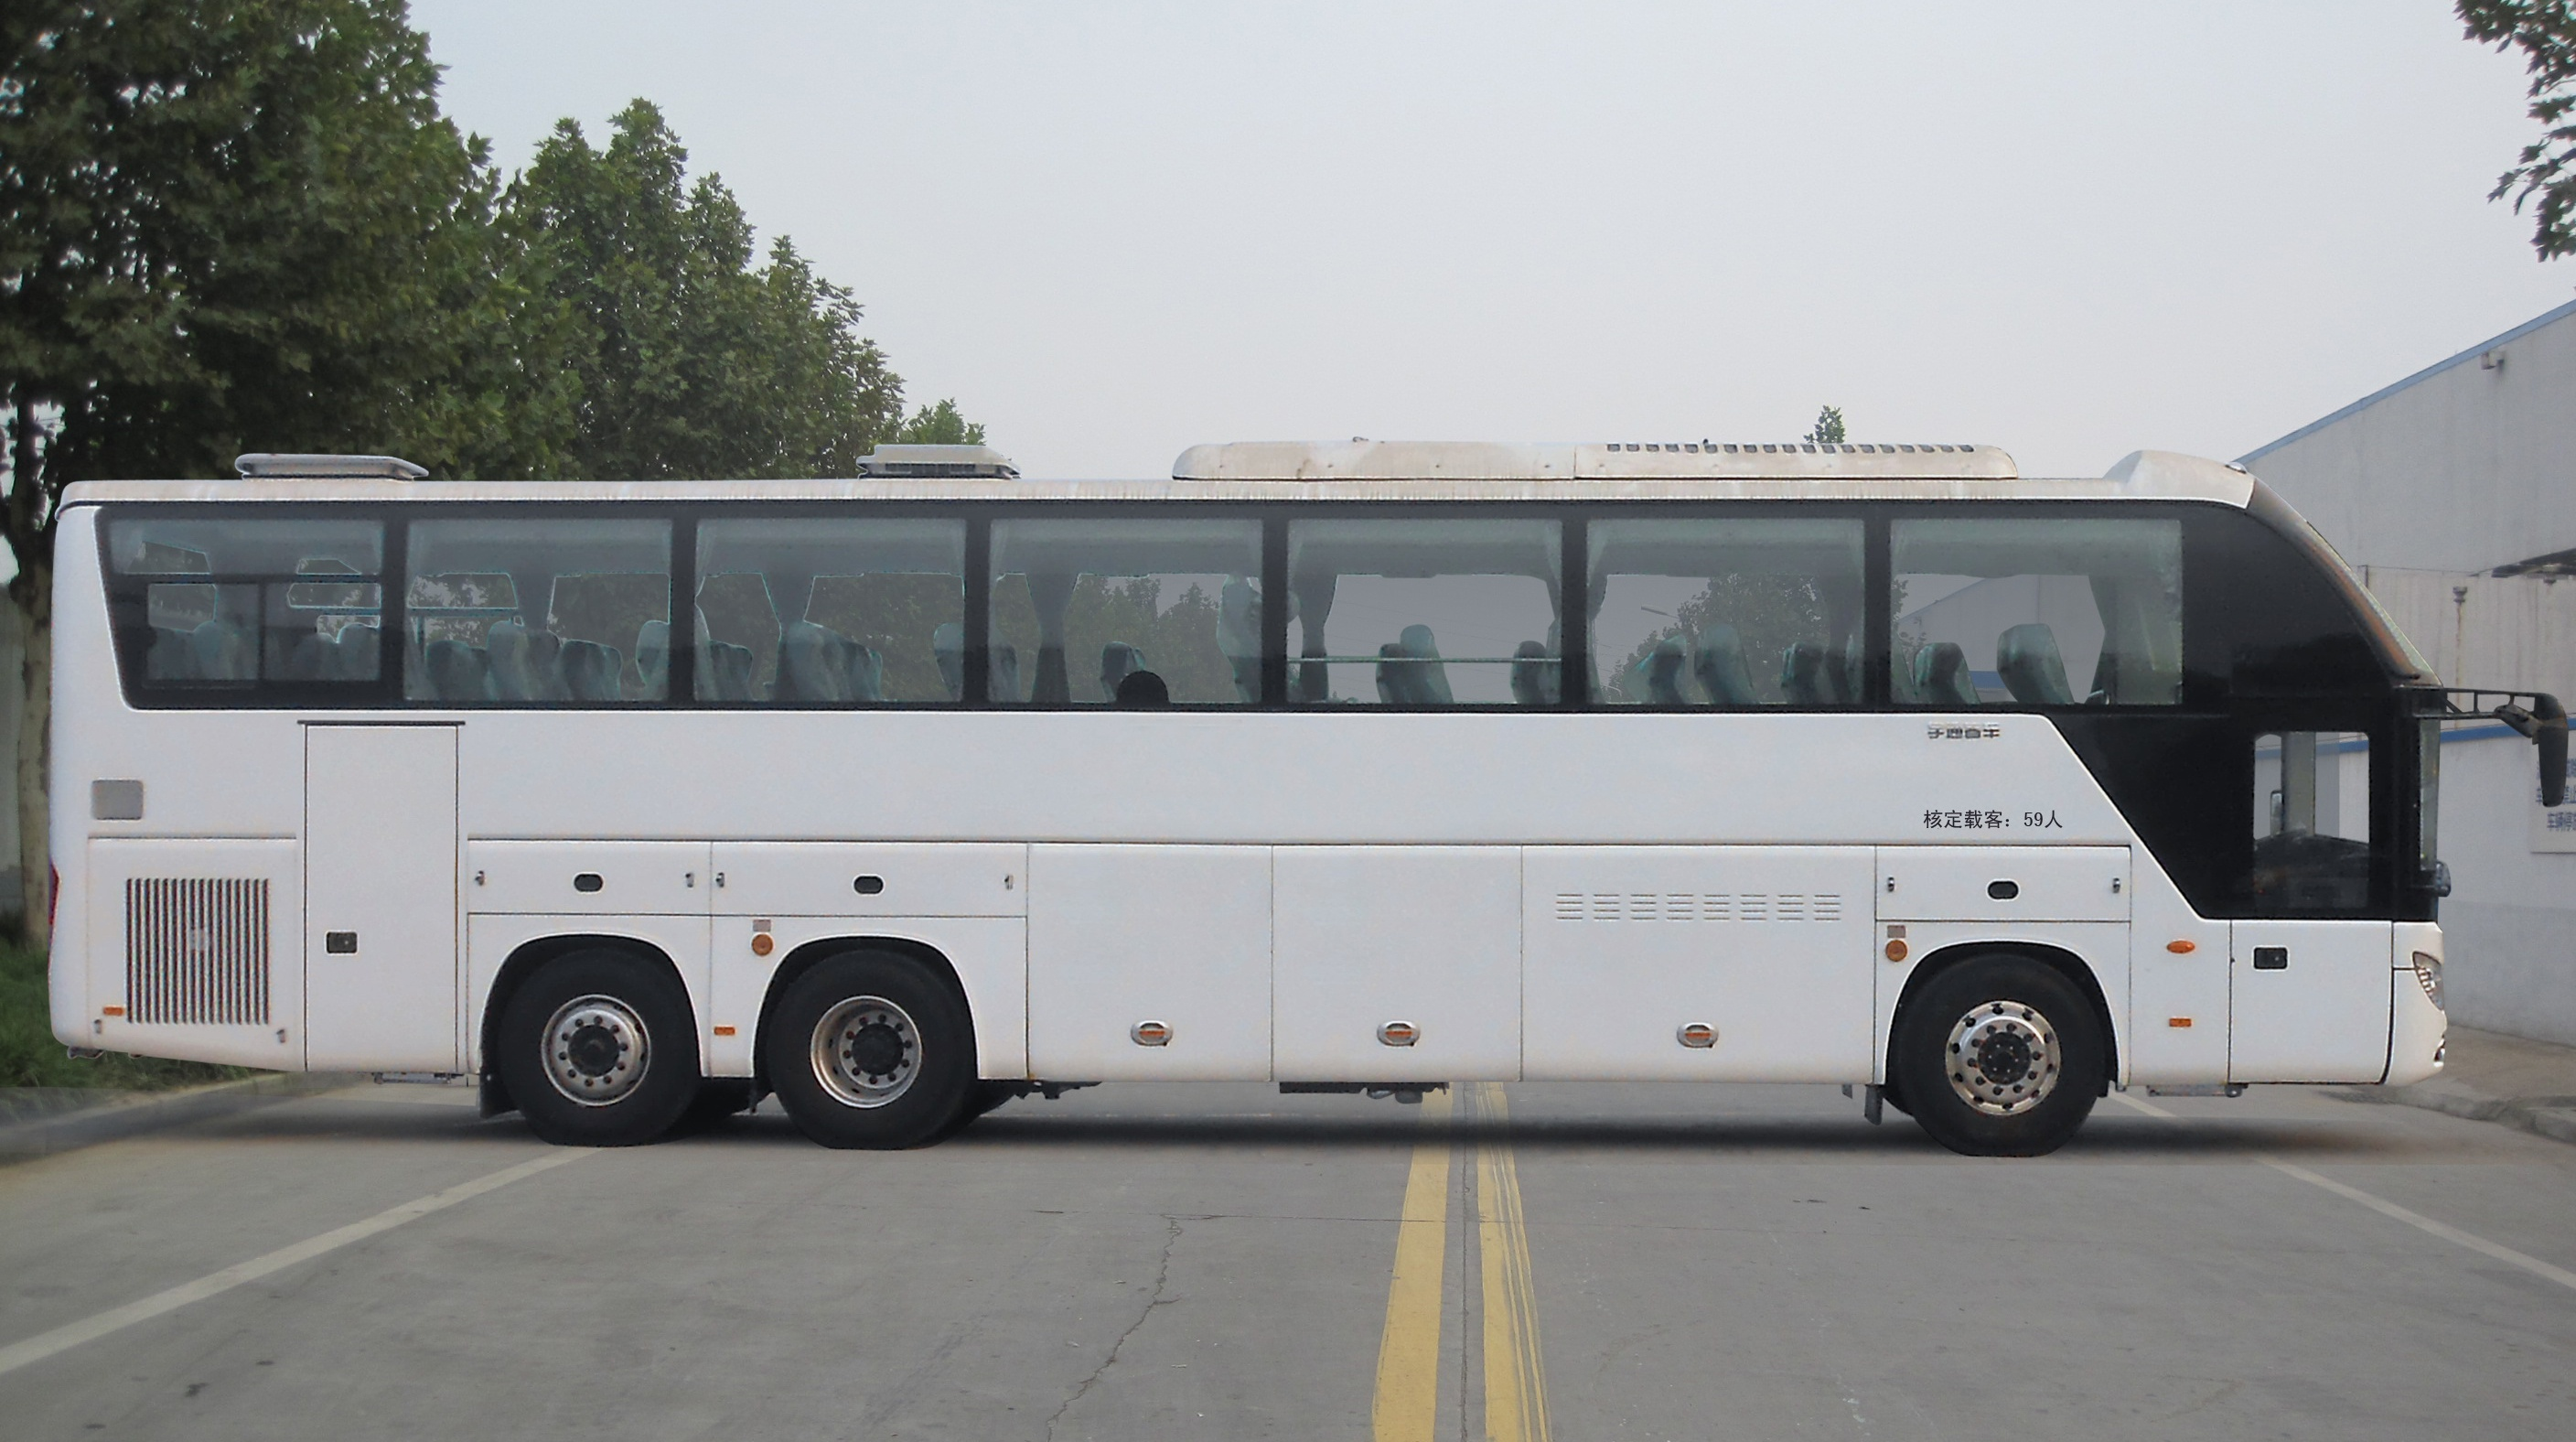bus: (55, 364, 2525, 1177)
